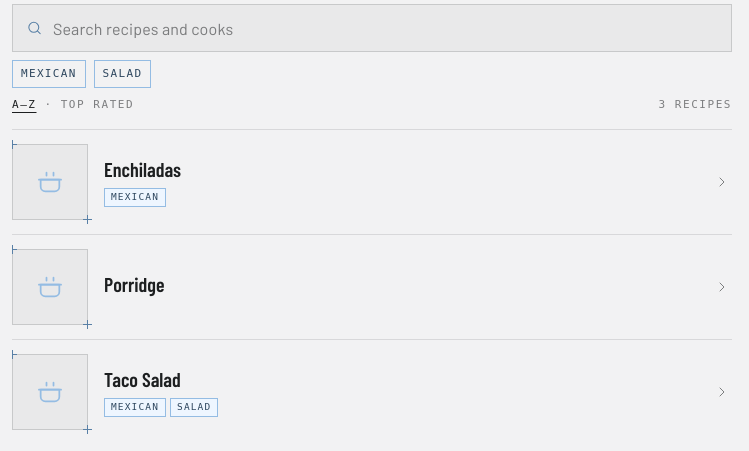
Test: RecipeTable › tags › filters to one tag and back
Click the button with aria-label "Filter by tag: salad" at point(122, 74), box [94, 60, 151, 88]
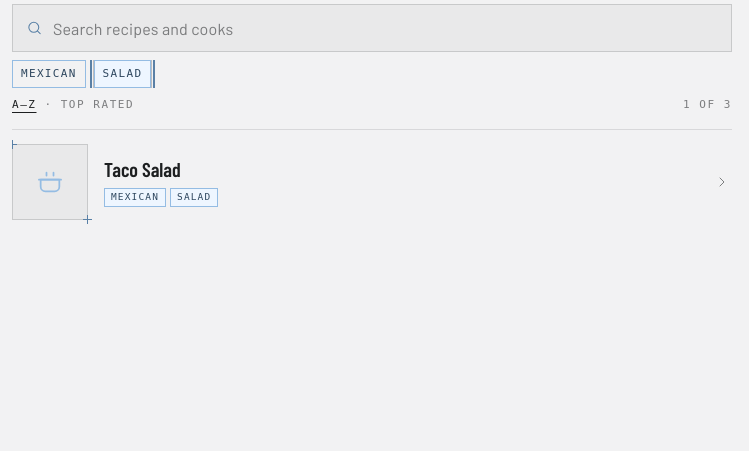
Expected: the text "Taco Salad" is shown, [104, 157, 181, 181]
Expected: the button "Enchiladas" is gone
Expected: the text "1 of 3" is shown, [683, 96, 732, 113]
Note: Pressing the active tag again is how you get everything back.
Click the button with aria-label "Clear tag filter: salad" at point(122, 74), box [94, 60, 151, 88]
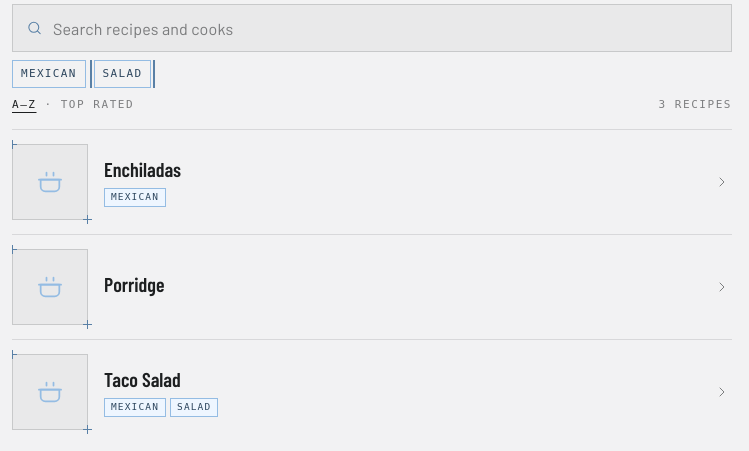
Expected: the text "Enchiladas" is shown, [104, 157, 181, 181]
